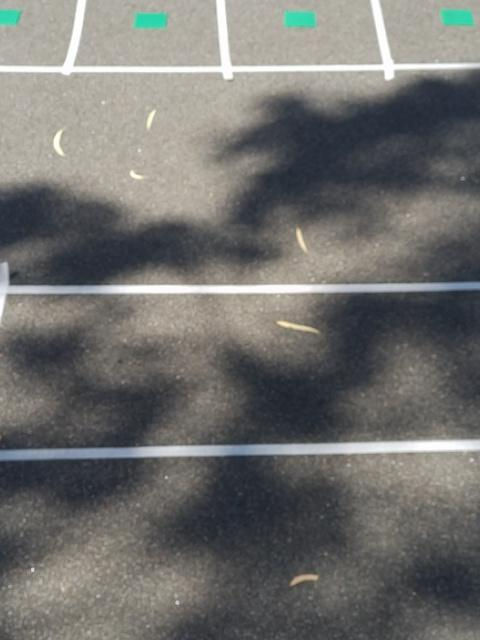weed: (277, 6, 321, 30), (438, 4, 477, 30), (129, 11, 171, 30), (0, 7, 23, 28)
